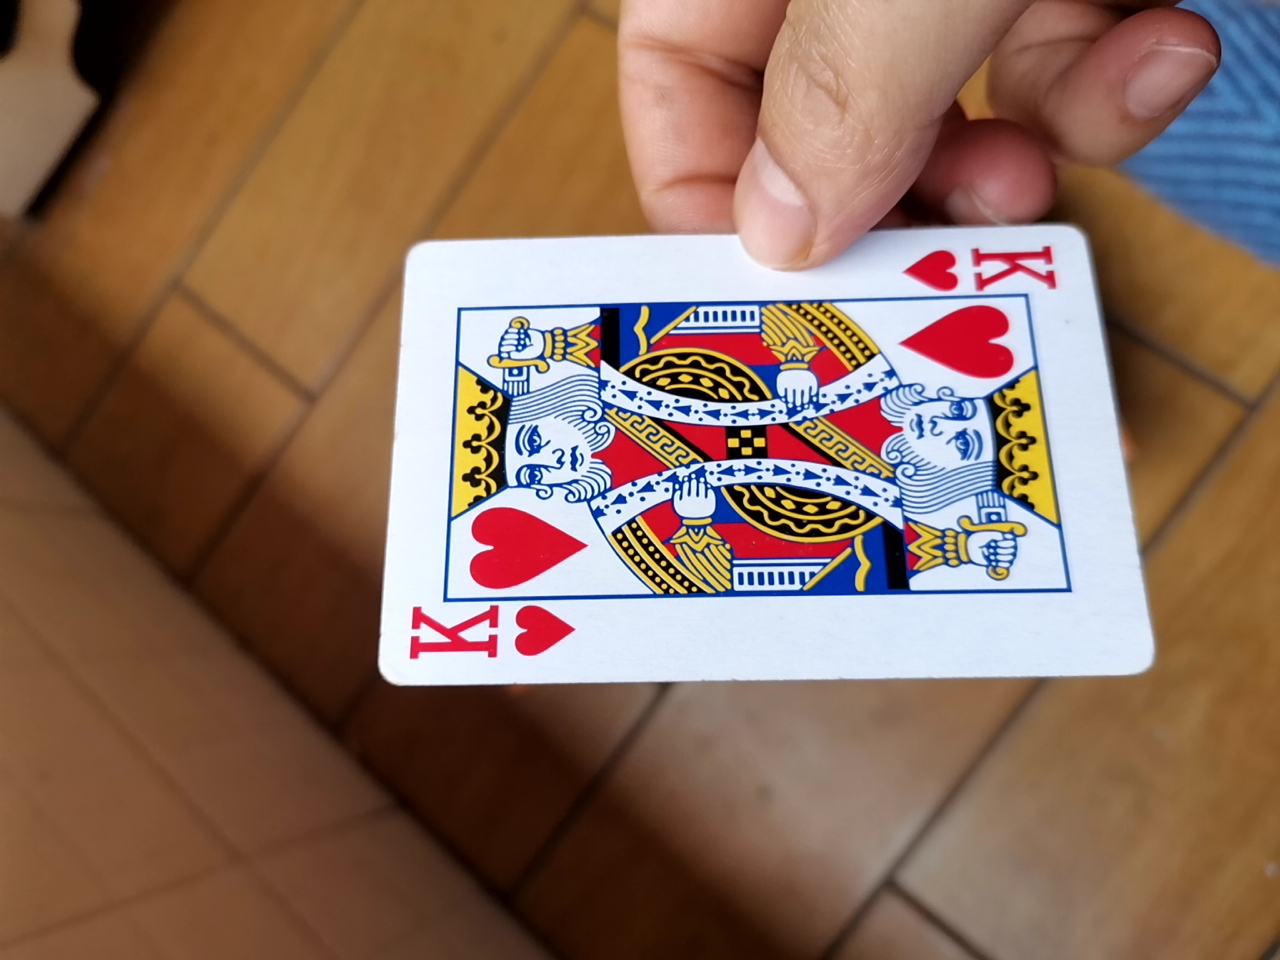hx k: (365, 229, 1149, 698)
